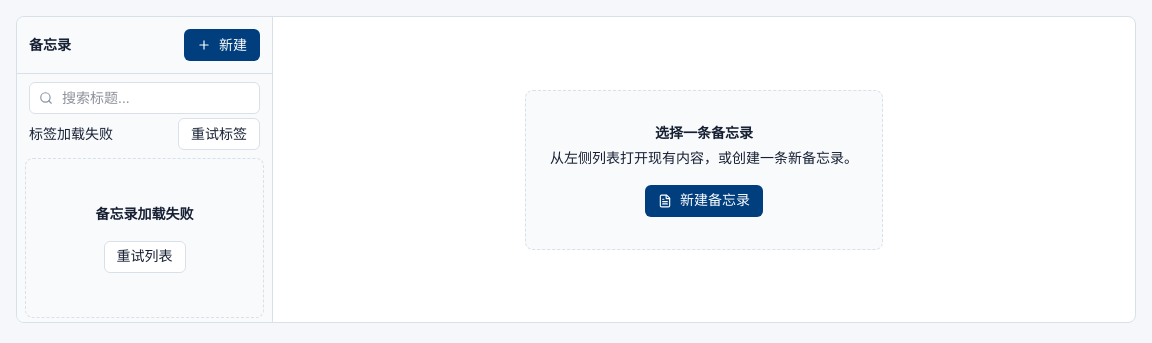
Test: reports and retries list and tag failures independently
This screenshot has width=1152, height=343.
Expected: the text "备忘录加载失败" is shown, [96, 204, 194, 224]
Click the button "重试标签". click: (219, 134)
box: [178, 118, 260, 150]
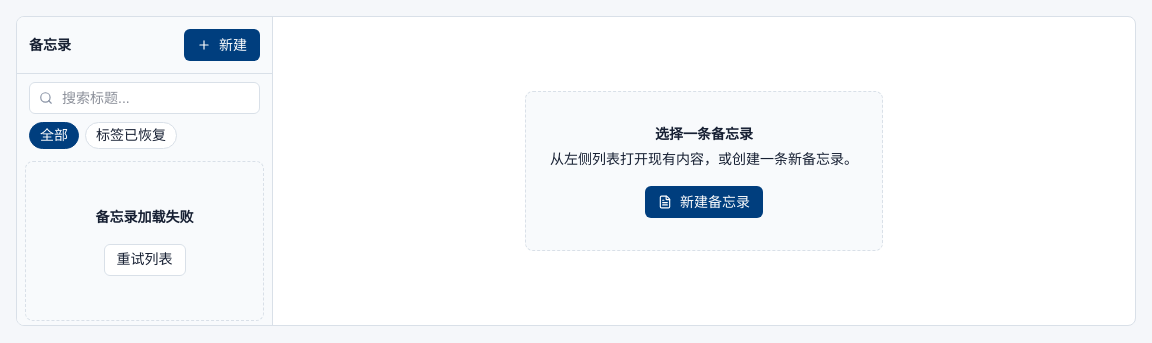
Result: the button "标签已恢复" is shown at [85, 122, 177, 149]
Click the button "重试列表". click: (144, 260)
box: [104, 244, 186, 276]
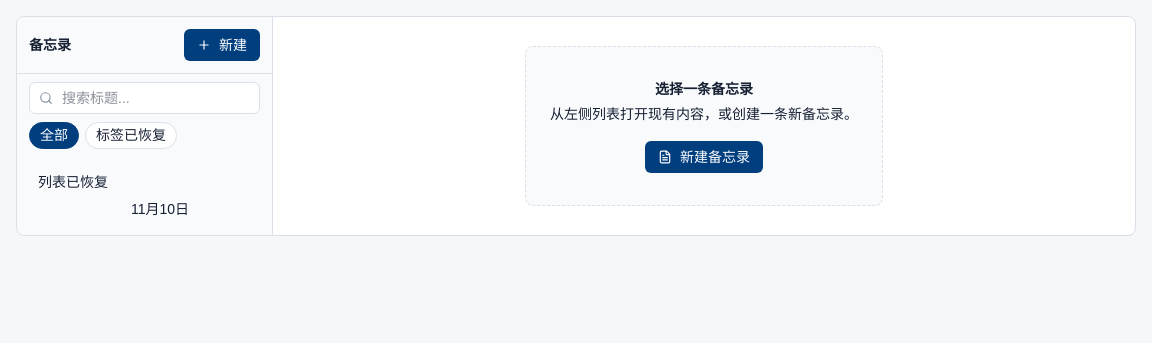
Result: the text "列表已恢复" is shown at [38, 172, 108, 193]
